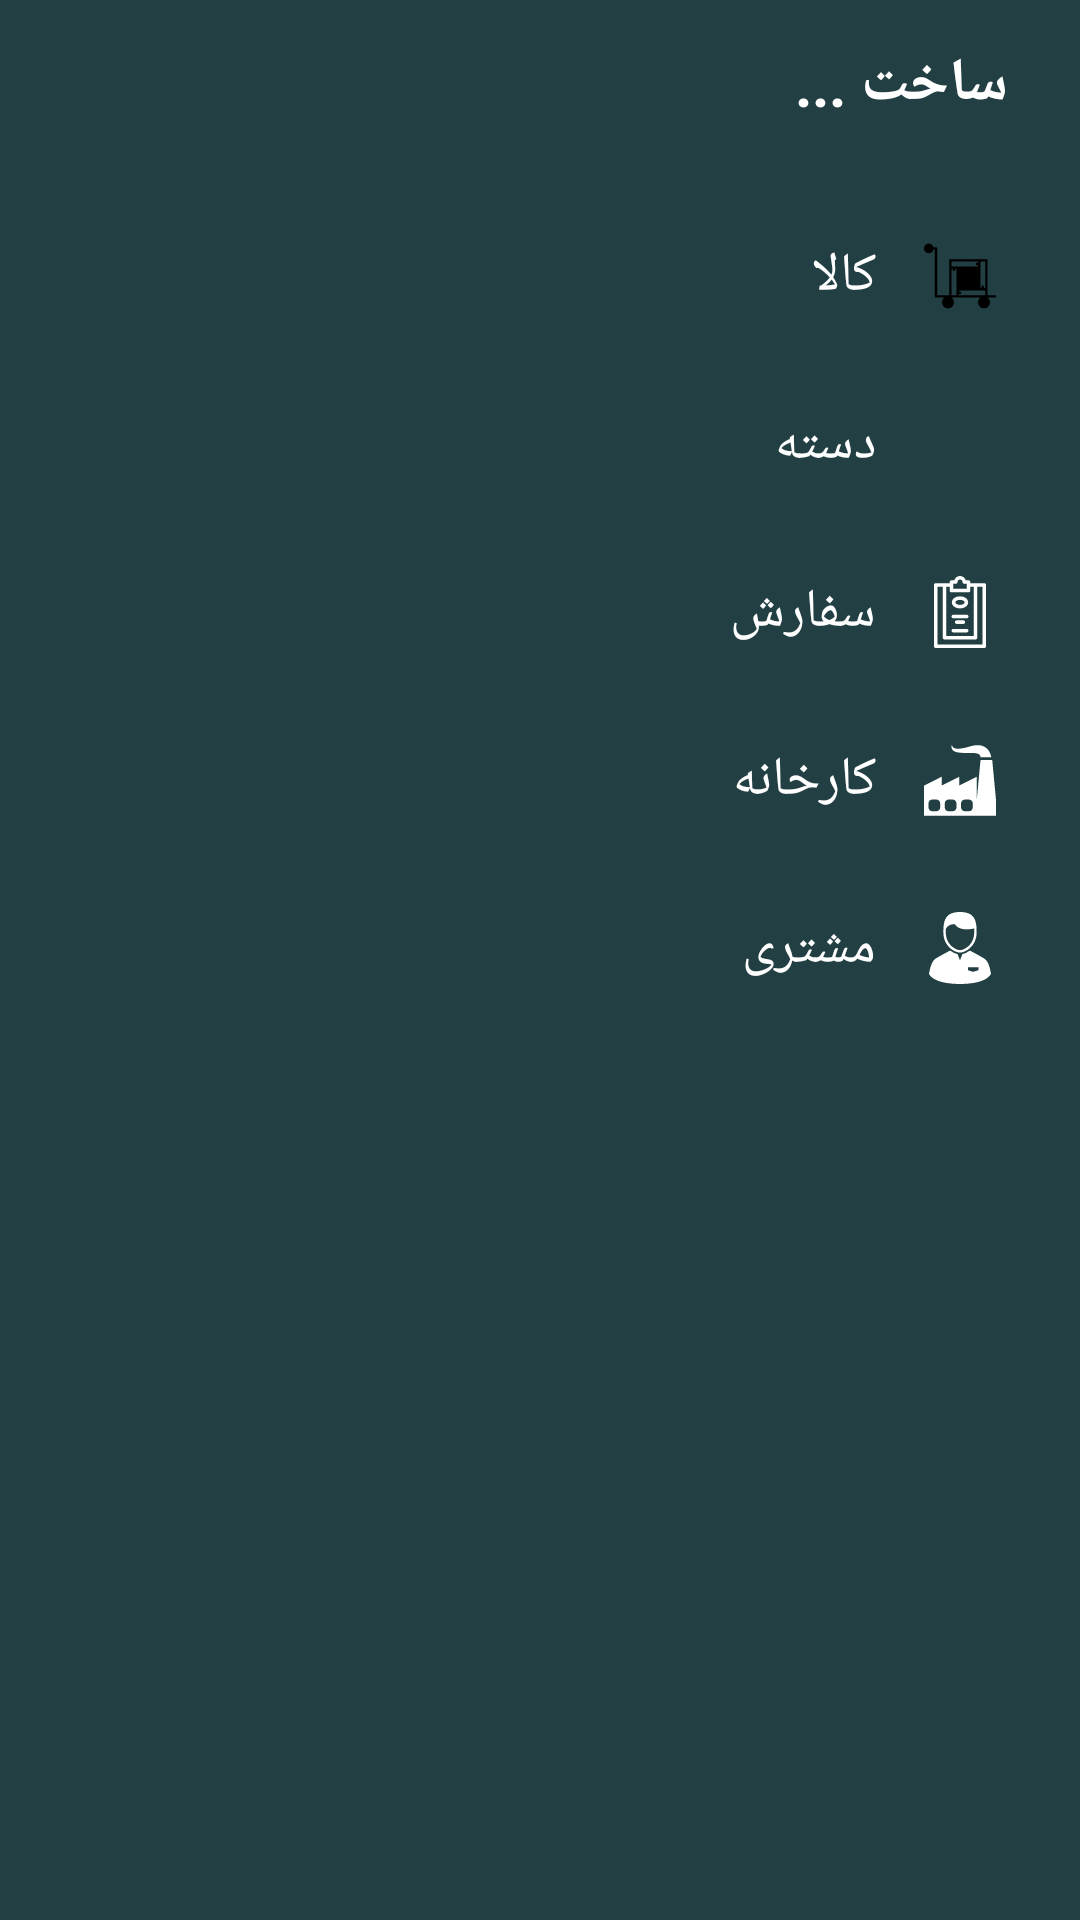

Point at icon controls on the screen. Image size 1080 × 1920, points as [x,y].
customer: [960,948]
factory: [960,780]
order: [960,612]
